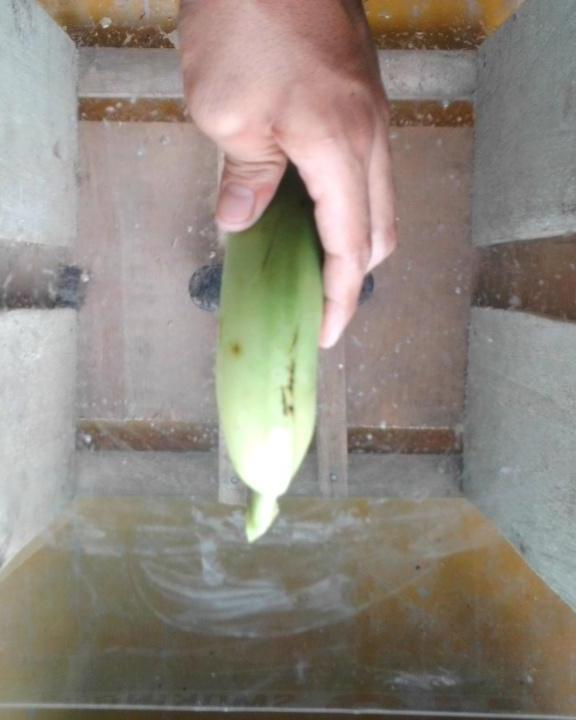CLASS B: (198, 182, 331, 576)
Class A: (271, 322, 316, 419), (222, 332, 247, 362)
